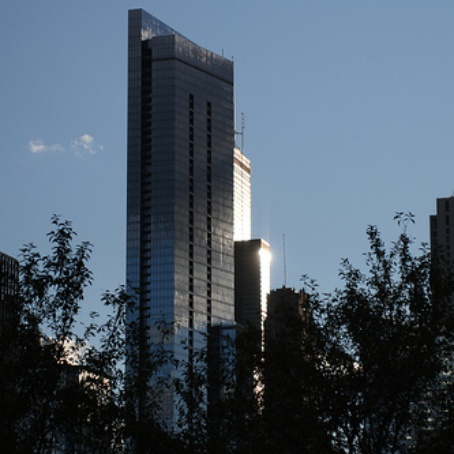building: (130, 7, 263, 415)
sky: (269, 1, 454, 286), (1, 1, 129, 236)
vegetation: (1, 254, 447, 454)
